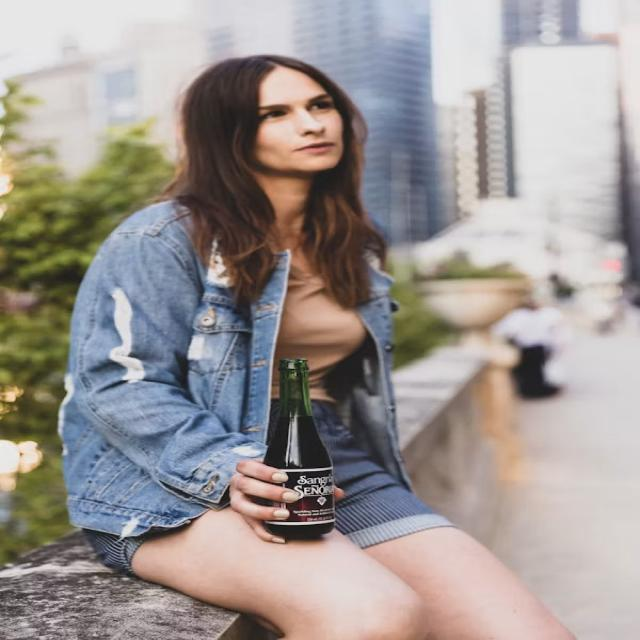Bottle: (264, 359, 334, 539)
